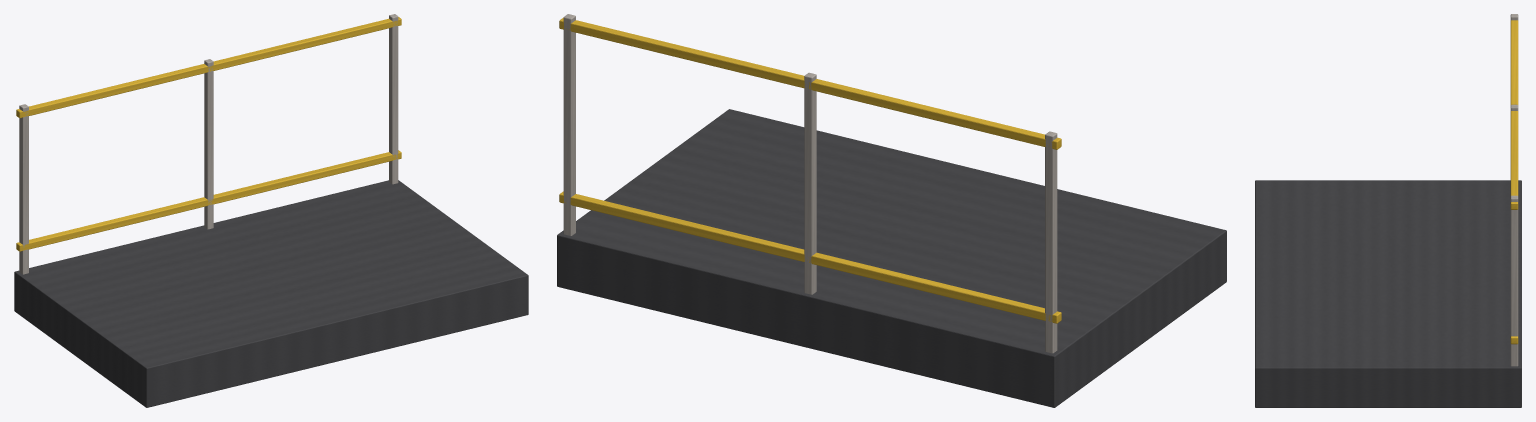
The model's file is gallery_module.glb.
3 views of the same model, side by side, from view 1: azimuth 30°, elevation 25°; view 2: azimuth 150°, elevation 25°; view 3: azimuth 270°, elevation 25° (orthographic). The views are drawn at different scales.
Parts seen in each view (by area): view 1: floor.002, rail.003, rail.004, post.004, post.005, post.003; view 2: floor.002, rail.003, rail.004, post.003, post.004, post.005; view 3: floor.002, rail.004, post.005.
Boxes of the visible parts, x1,y1,x2,y2 form: floor.002: (14,180,528,407); rail.003: (16,150,401,251); rail.004: (16,17,401,118); post.004: (204,59,213,229); post.005: (389,14,398,184); post.003: (19,104,28,274); floor.002: (557,109,1226,407); rail.003: (559,191,1061,323); rail.004: (559,17,1061,149); post.003: (1045,131,1057,353); post.004: (804,72,816,294); post.005: (563,14,575,235); floor.002: (1255,180,1521,407); rail.004: (1510,20,1518,209); post.005: (1510,195,1518,366).
Bounding box in the file's own units: 3 × 1.55 × 1.8.
3 materials, 3 textured.
